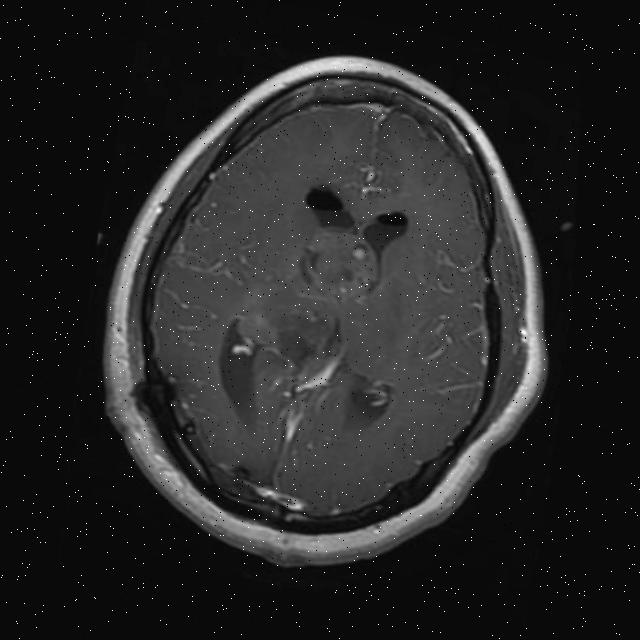Glioma: (227, 293, 334, 375), (290, 218, 389, 305)
